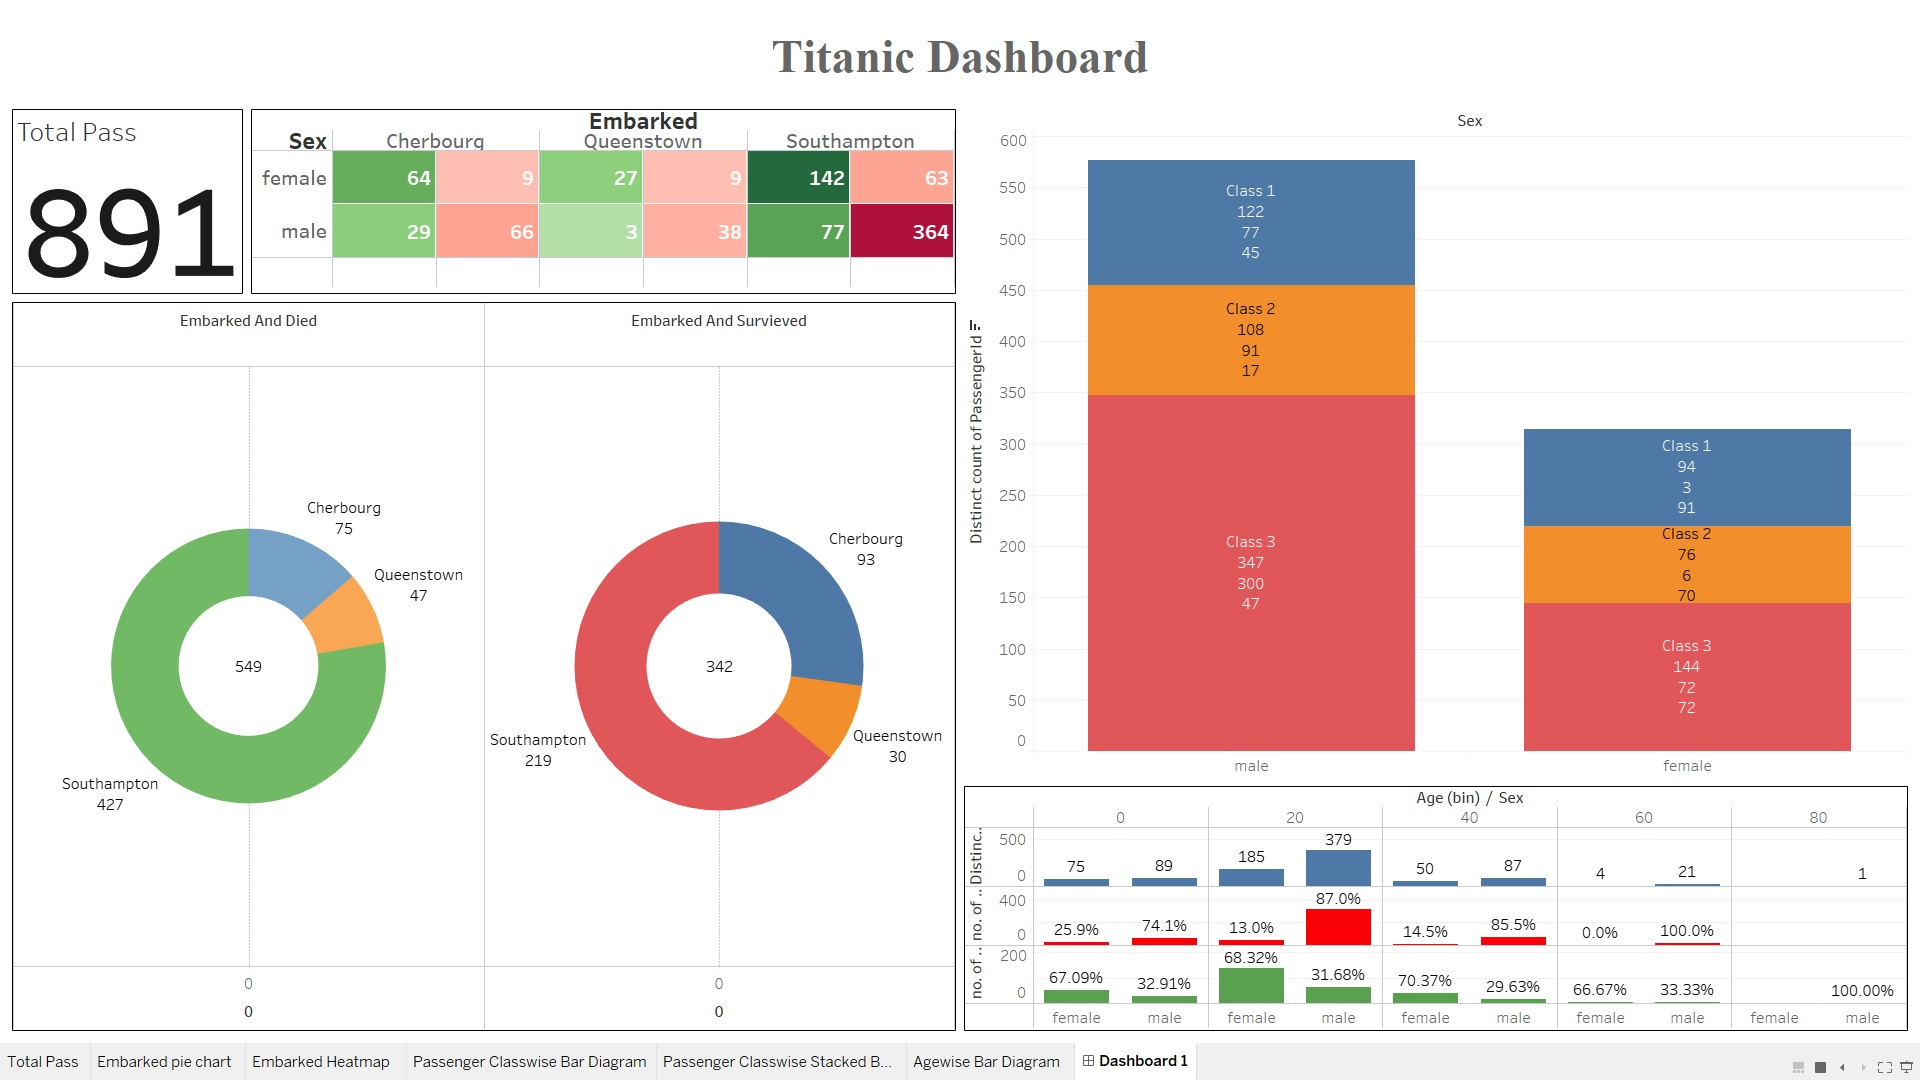

Layout of this report page (visuals, bound fields, positions):
{"tool":"tableau","page":{"name":"Dashboard 1","canvas":[1000,1000],"units":"permille","ordinal":0},"visuals":[{"type":"text","box":[4.8,9.3,990.3,92.9]},{"type":"worksheet","title":"Total Pass","mark":"Automatic","box":[4.8,102.2,144.2,184.7]},{"type":"worksheet","title":"Embarked Heatmap ","mark":"Automatic","rows":["Sex"],"cols":["Embarked","Calculation_374361745815179274","Calculation_533958054486294536"],"box":[149.1,102.2,350.9,184.7]},{"type":"worksheet","title":"Passenger Classwise Stacked Bar Diagram","mark":"Automatic","rows":["PassengerId"],"cols":["Sex"],"box":[499.9,102.2,495.2,646.9]},{"type":"worksheet","title":"Embarked pie chart","mark":"Pie","cols":["Calculation_533958054483779588","Calculation_533958054483820550","Calculation_374361745811177473","Calculation_374361745811730435"],"box":[4.8,286.9,495.1,703.8]},{"type":"worksheet","title":"Agewise Bar Diagram","mark":"Automatic","rows":["PassengerId","Calculation_533958054483329026","no. of pass died (copy)_533958054490230793"],"cols":["Age (bin)","Sex"],"box":[499.9,749.1,495.2,241.6]}]}

Visuals, with their boxes on the dashboard's canvas, which has no fixed pixel size, in thousandths of its width and height (x1, y1, x2, y2). These are canvas units, not pixel positions in the 1920x1080 screenshot, which may show the page scaled, cropped or inside an application window:
text: [left=5, top=9, right=995, bottom=102]
"Total Pass" worksheet: [left=5, top=102, right=149, bottom=287]
"Embarked Heatmap " worksheet: [left=149, top=102, right=500, bottom=287]
"Passenger Classwise Stacked Bar Diagram" worksheet: [left=500, top=102, right=995, bottom=749]
"Embarked pie chart" worksheet (Pie marks): [left=5, top=287, right=500, bottom=991]
"Agewise Bar Diagram" worksheet: [left=500, top=749, right=995, bottom=991]
